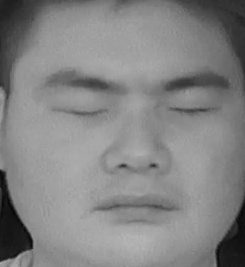blink: (56, 94, 109, 126), (165, 94, 217, 126)
mouth: (90, 184, 184, 230)
